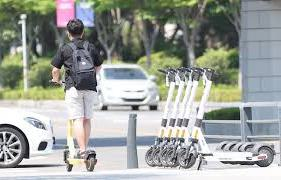nonhelmet: (51, 17, 107, 173)
